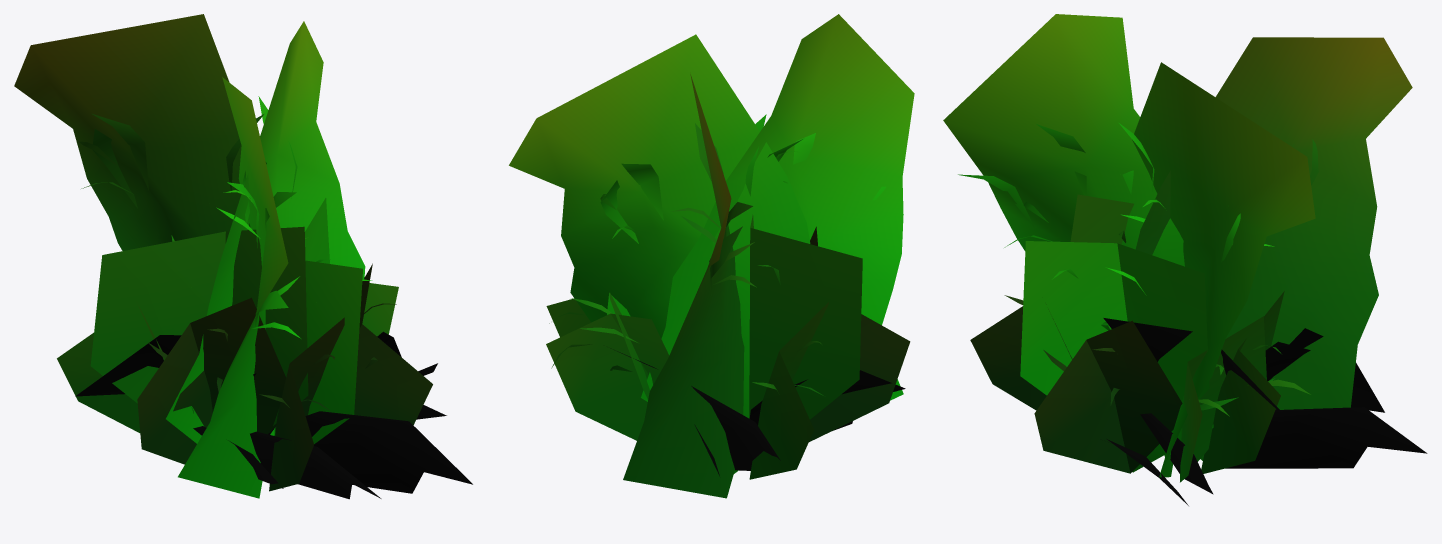
File: Grass_Long_2_Mesh.fbx
The picture shows the model from 3 angles, left to right: view 1: azimuth 30°, elevation 25°; view 2: azimuth 150°, elevation 25°; view 3: azimuth 270°, elevation 25°; orthographic projection.
Visible parts, largest first — view 1: Grass_Long_2_LOD0; view 2: Grass_Long_2_LOD0; view 3: Grass_Long_2_LOD0.
Boxes of the visible parts, <box> form: Grass_Long_2_LOD0: <box>14,14,472,499</box>; Grass_Long_2_LOD0: <box>509,14,914,498</box>; Grass_Long_2_LOD0: <box>943,14,1427,505</box>.
Size of the model in its own units: 175 by 210 by 210.
